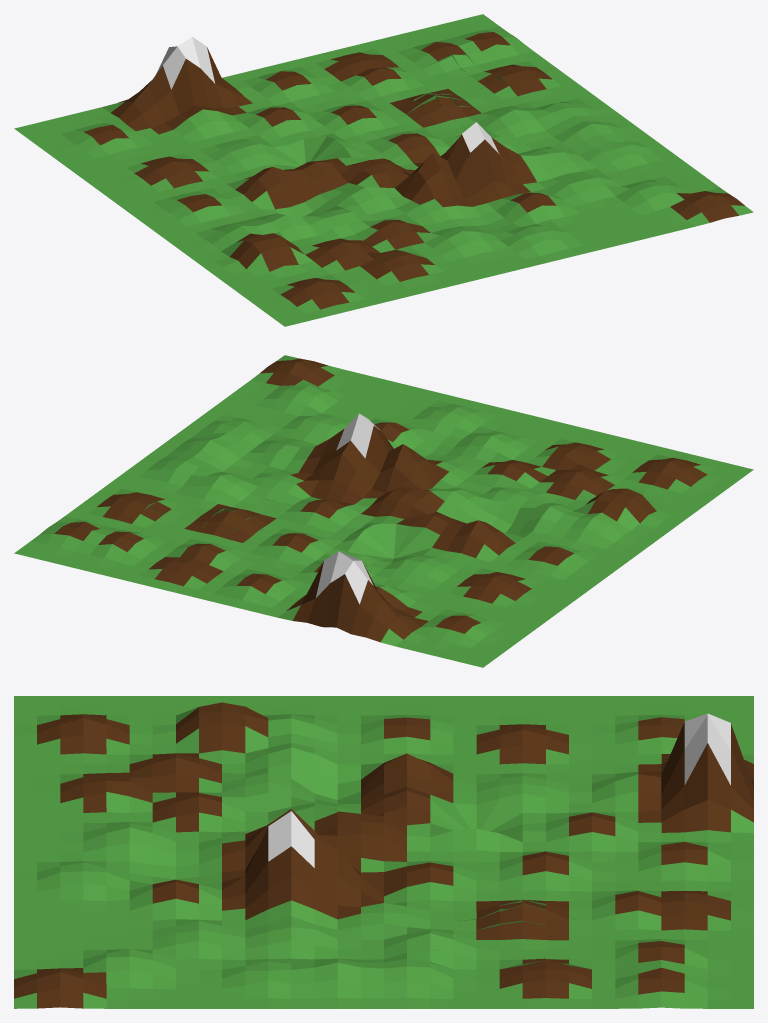
Rendered from terrain.fbx.
The picture shows the model from 3 angles, top to bottom: view 1: azimuth 30°, elevation 25°; view 2: azimuth 150°, elevation 25°; view 3: azimuth 270°, elevation 25°; orthographic projection. The views are drawn at different scales.
Visible parts, largest first — view 1: Plane; view 2: Plane; view 3: Plane.
Boxes of the visible parts, bbox=[...] form: Plane: bbox=[14, 14, 753, 326]; Plane: bbox=[14, 355, 753, 667]; Plane: bbox=[14, 696, 753, 1008].
Size of the model in its own units: 13.18 by 2.06 by 13.18.
